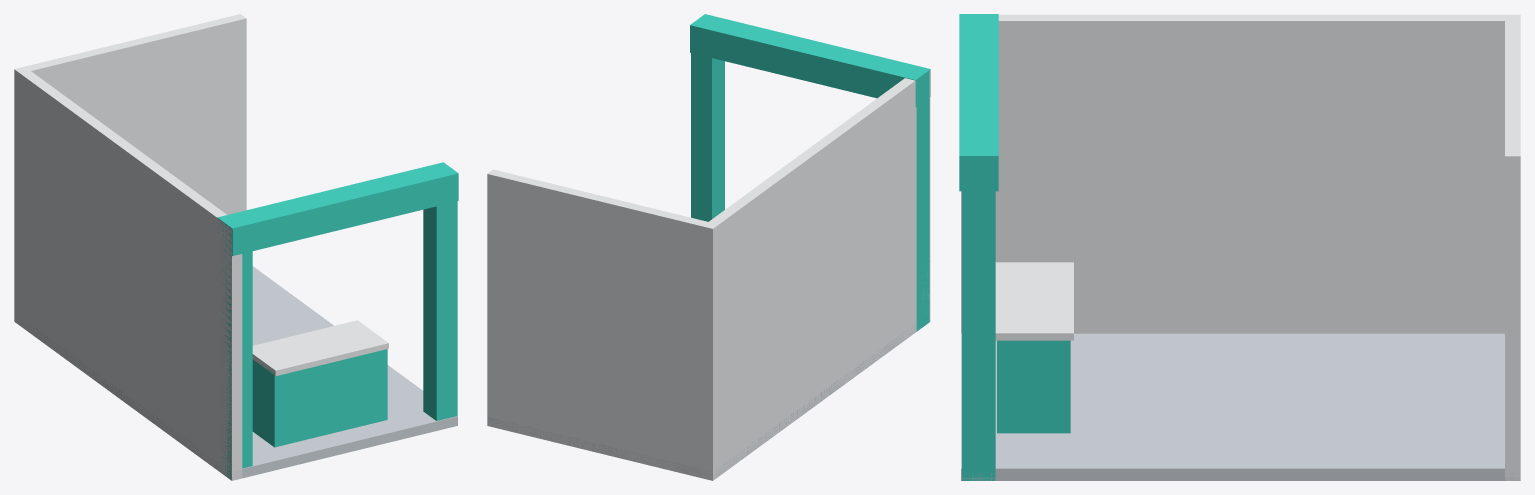
3 views of the same model, side by side, from view 1: azimuth 30°, elevation 25°; view 2: azimuth 150°, elevation 25°; view 3: azimuth 270°, elevation 25° (orthographic). The views are drawn at different scales.
Visible parts, largest first — view 1: Exhibition Booth Concept; view 2: Exhibition Booth Concept; view 3: Exhibition Booth Concept.
Part boxes in pixels (x1,y1,x2,y2): Exhibition Booth Concept: [14, 14, 458, 480]; Exhibition Booth Concept: [487, 14, 930, 480]; Exhibition Booth Concept: [959, 14, 1520, 480].
Size of the model in its own units: 3 by 3.2 by 5.02.
